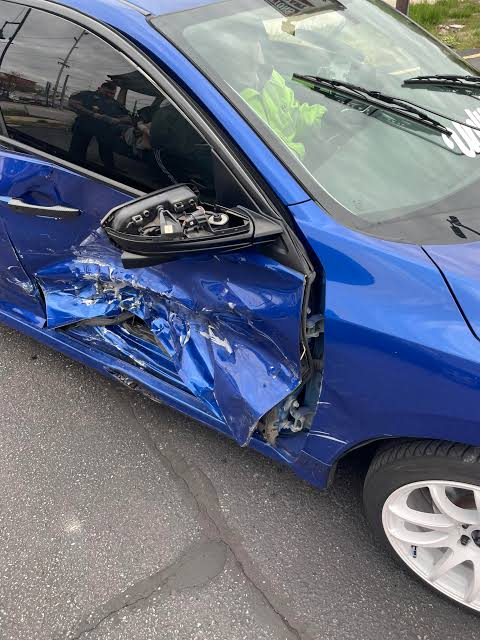doorouter-dent: (8, 158, 314, 473)
